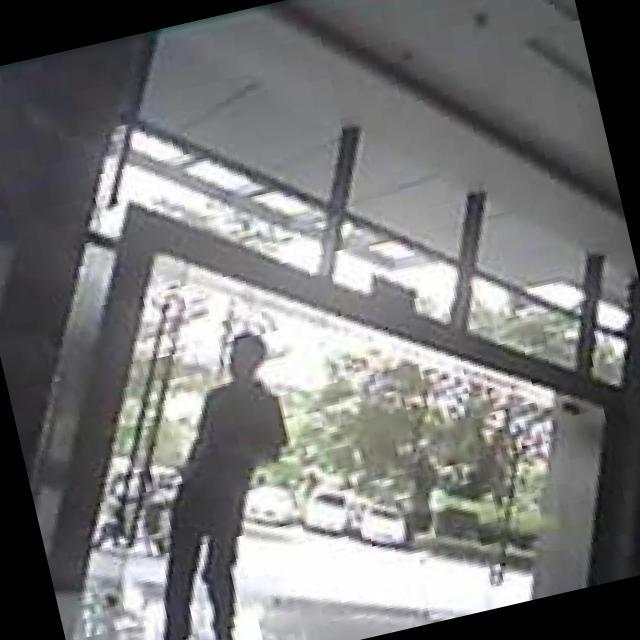person: (71, 322, 338, 640)
